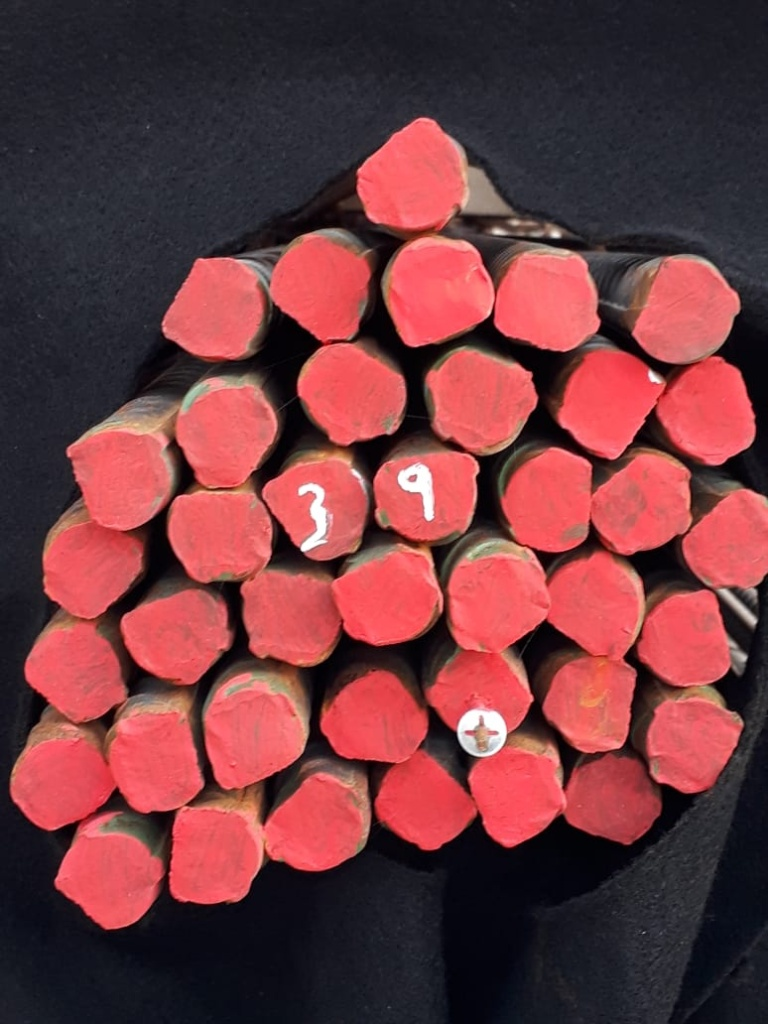dipstick: (353, 116, 469, 235), (383, 237, 495, 346), (557, 347, 666, 459), (630, 255, 737, 364), (271, 232, 371, 345), (263, 459, 368, 564), (176, 382, 279, 489), (429, 351, 538, 452), (495, 249, 601, 352), (299, 342, 406, 444), (162, 256, 266, 360), (21, 625, 131, 723), (330, 552, 443, 647), (55, 834, 163, 933), (67, 428, 171, 530), (593, 452, 694, 556), (204, 687, 306, 788), (375, 751, 478, 851), (321, 669, 428, 765), (10, 735, 117, 830), (266, 774, 365, 876), (124, 589, 230, 684), (44, 520, 144, 620), (240, 568, 340, 667), (429, 644, 531, 741), (658, 357, 748, 466), (448, 555, 550, 651), (469, 748, 565, 850), (564, 753, 663, 850), (374, 450, 479, 540), (501, 448, 591, 552), (169, 493, 272, 583), (111, 712, 203, 812), (549, 555, 640, 656), (648, 700, 744, 794), (168, 805, 258, 904), (640, 590, 731, 687), (544, 657, 635, 751), (683, 491, 768, 588)
